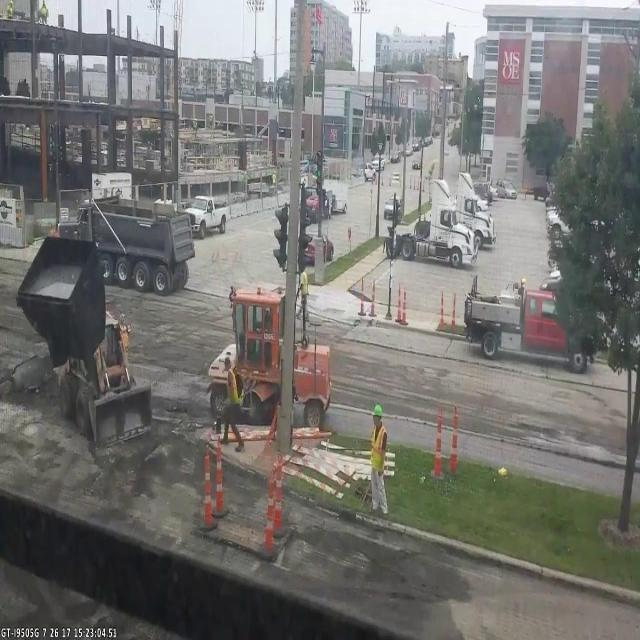buldozerpayloadergrader: (61, 308, 153, 448)
dump_truck: (56, 186, 196, 295), (463, 272, 596, 371)
